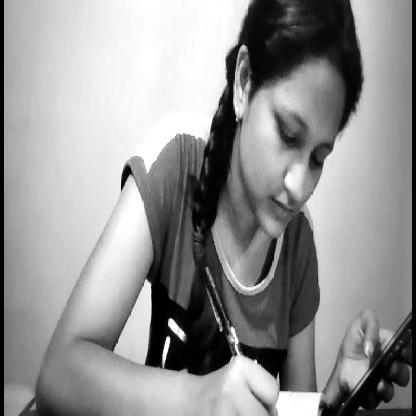Distracted: (222, 0, 352, 274)
